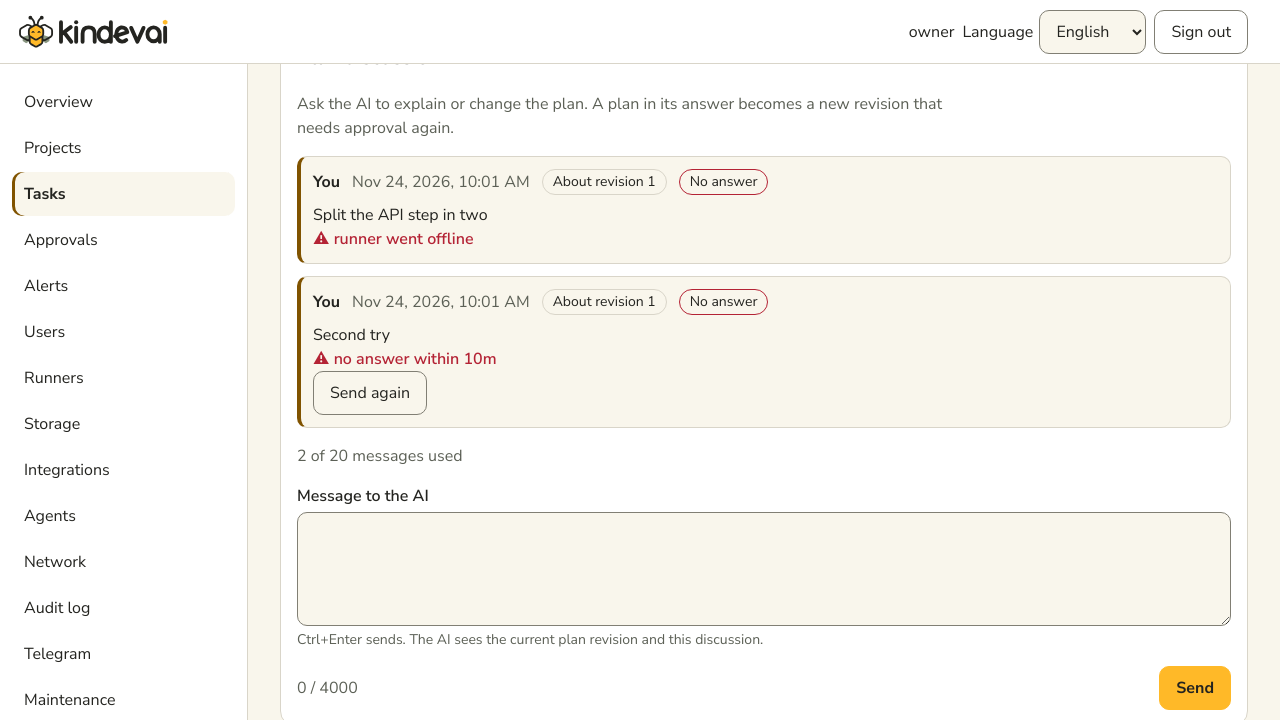
it: plan discussion on the task page › offers to send the last failed message again
(page scrolled)
Expected: the text "runner went offline" is shown, [334, 228, 474, 250]
Expected: the text "No answer" is shown 2 times, [679, 169, 768, 195]; [679, 289, 768, 315]
Click the button "Send again" at (370,393), box [313, 371, 427, 415]
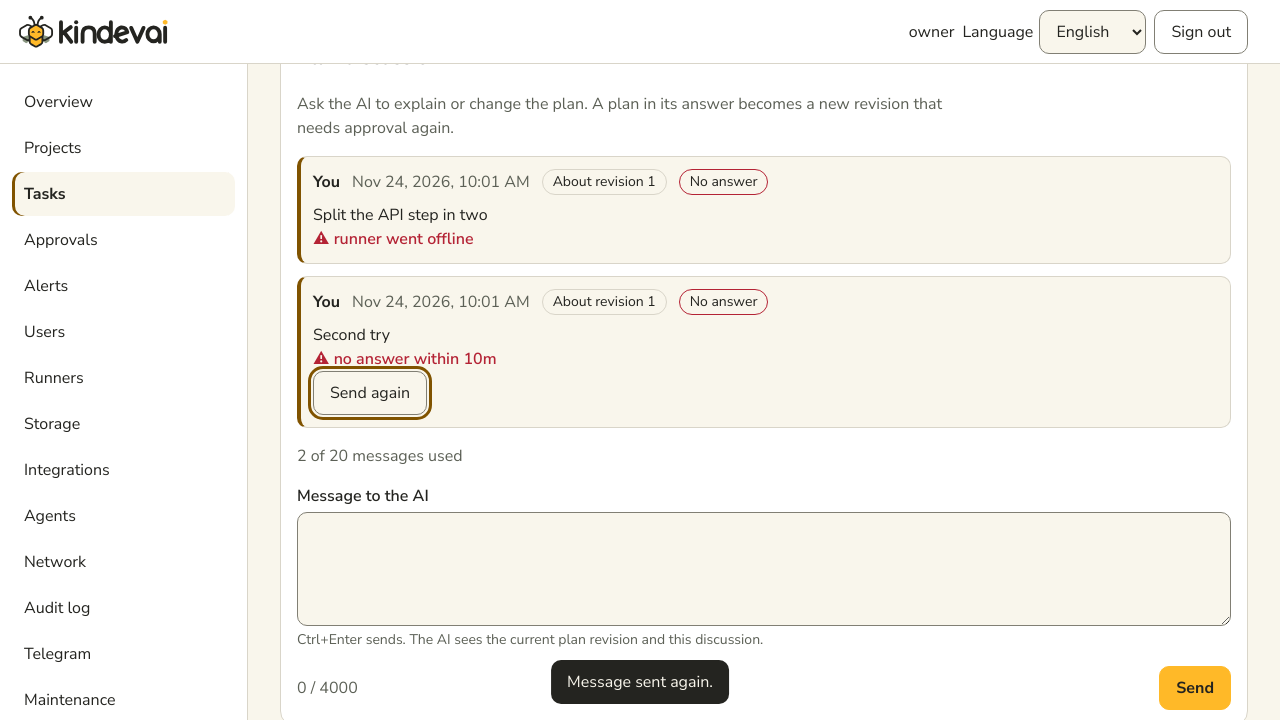
Now the text "Message sent again." is shown, box [551, 660, 729, 704]
